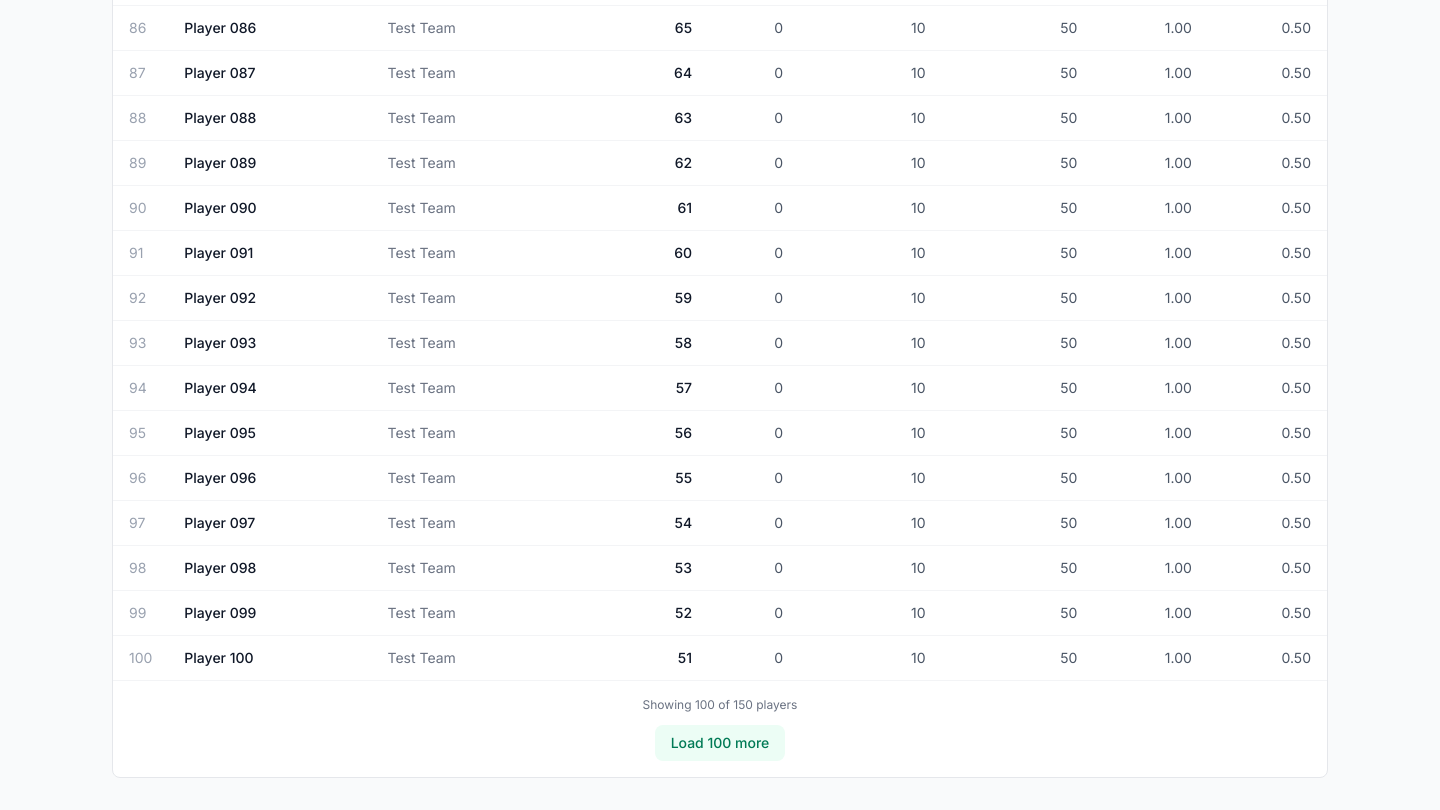
Test: players page › resets pagination when search filter changes
(page scrolled)
Click the button "Load 100 more".
click(720, 743)  # box [655,725,785,761]
(page scrolled)
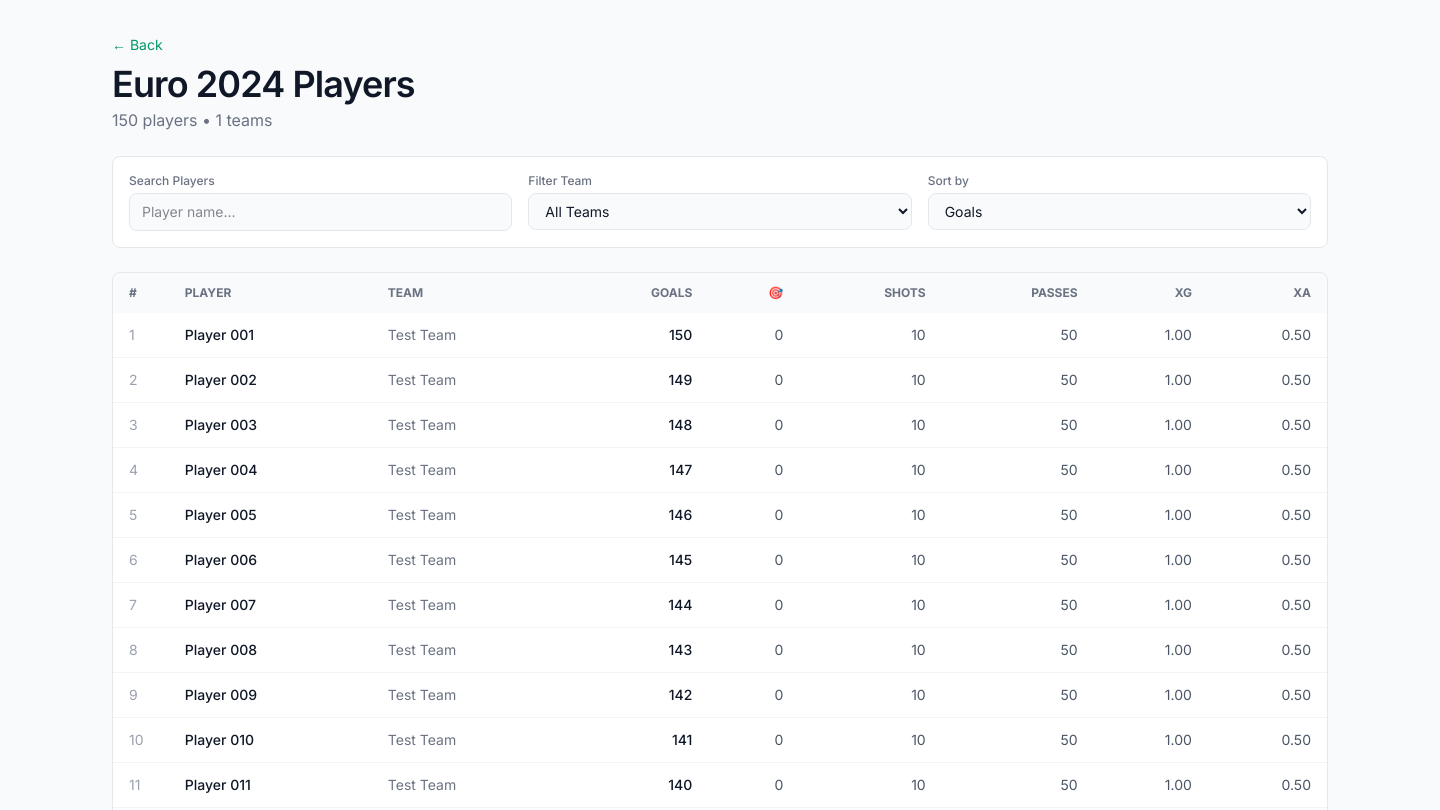
Note: Change search → visibleCount resets to 100
Type "Player" into the field with placeholder "Player name...".
click(321, 212); type("Player")  # box [129,193,512,231]
(page scrolled)
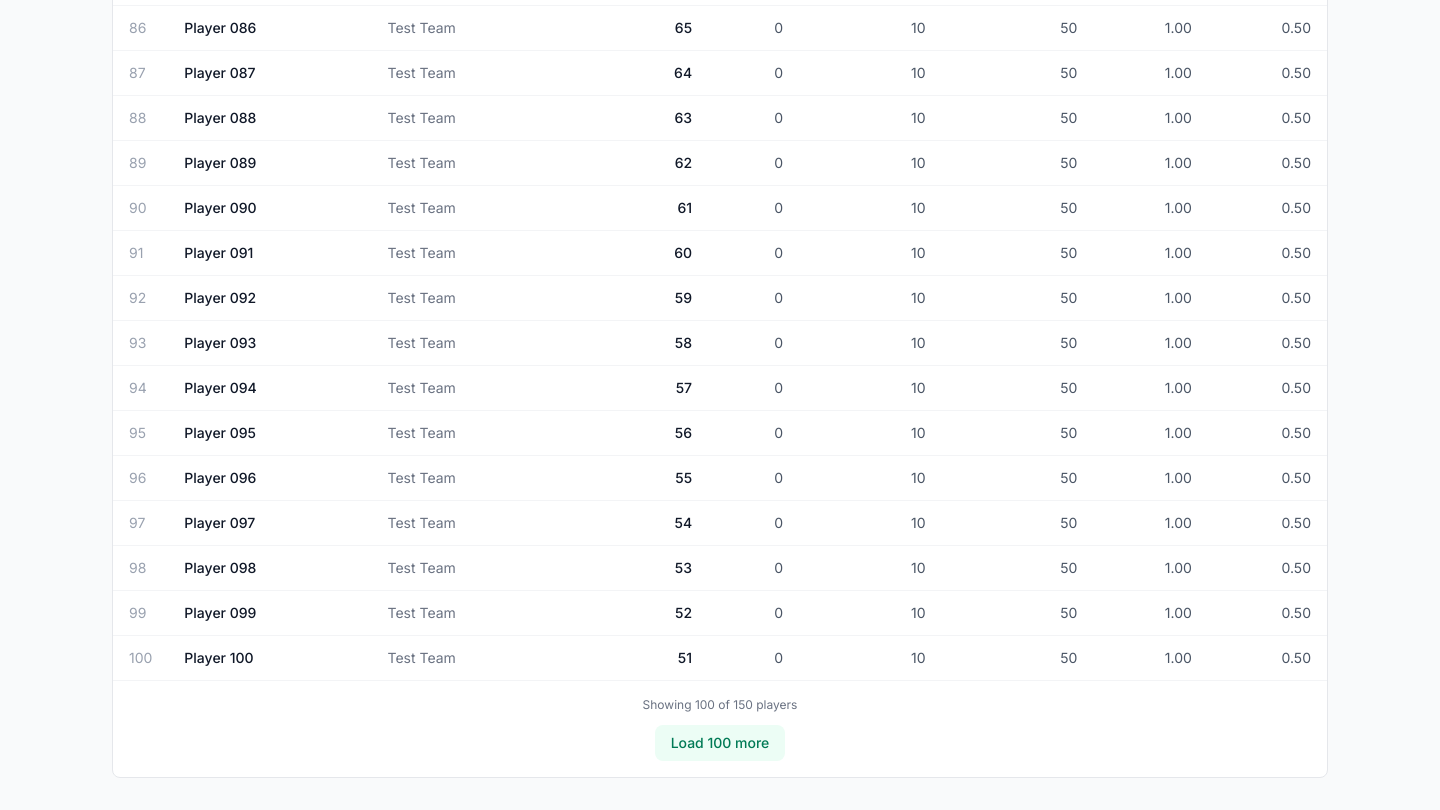
Result: the text "Showing 100 of 150 players" is shown at [642,697,797,713]
